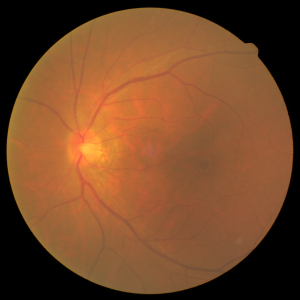healthy_eye: (29, 99, 217, 208)
